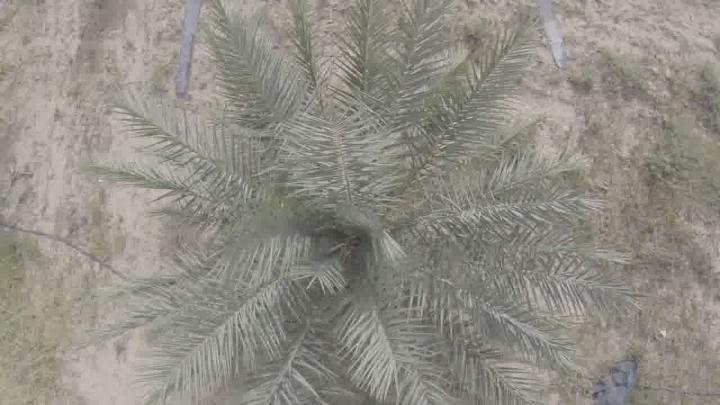Date-Palm-Crown: (213, 106, 505, 382)
